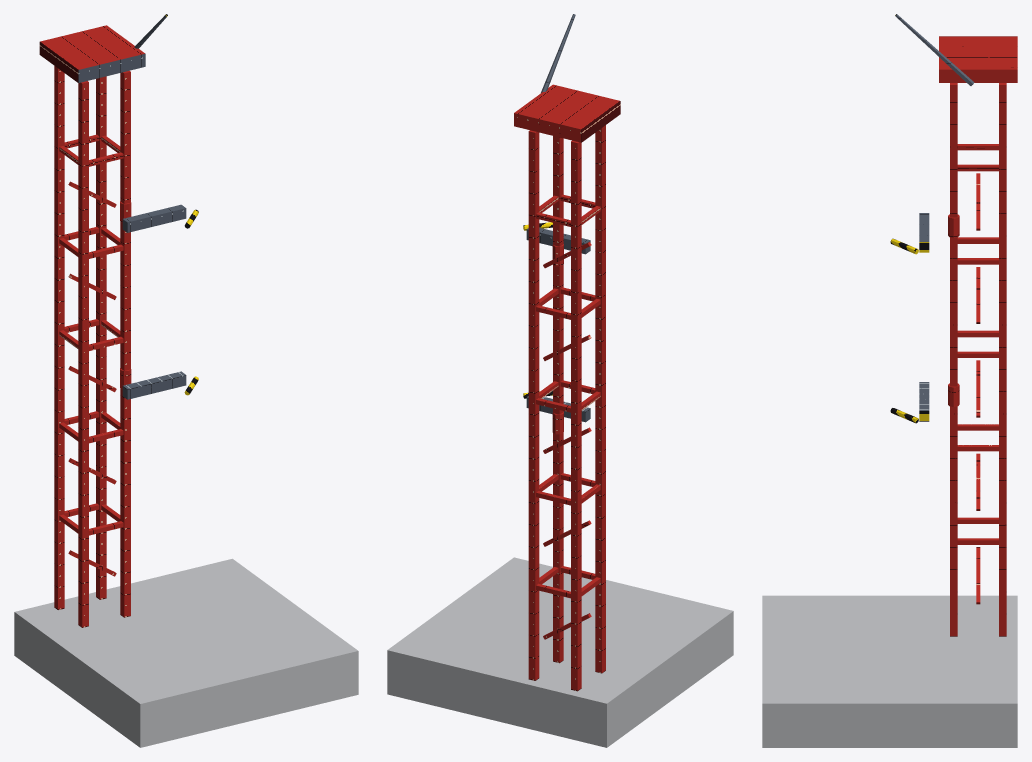
Rendered from launch_tower.glb.
The picture shows the model from 3 angles, left to right: view 1: azimuth 30°, elevation 25°; view 2: azimuth 150°, elevation 25°; view 3: azimuth 270°, elevation 25°; orthographic projection.
Visible parts, largest first — view 1: launch_tower; view 2: launch_tower; view 3: launch_tower.
Part boxes in pixels (<box>): launch_tower: <box>14,14,358,747</box>; launch_tower: <box>387,14,733,747</box>; launch_tower: <box>762,14,1017,747</box>.
Bounding box in the file's own units: 2.6 × 7.55 × 2.6.
Materials: 4 (3 with a texture image).
